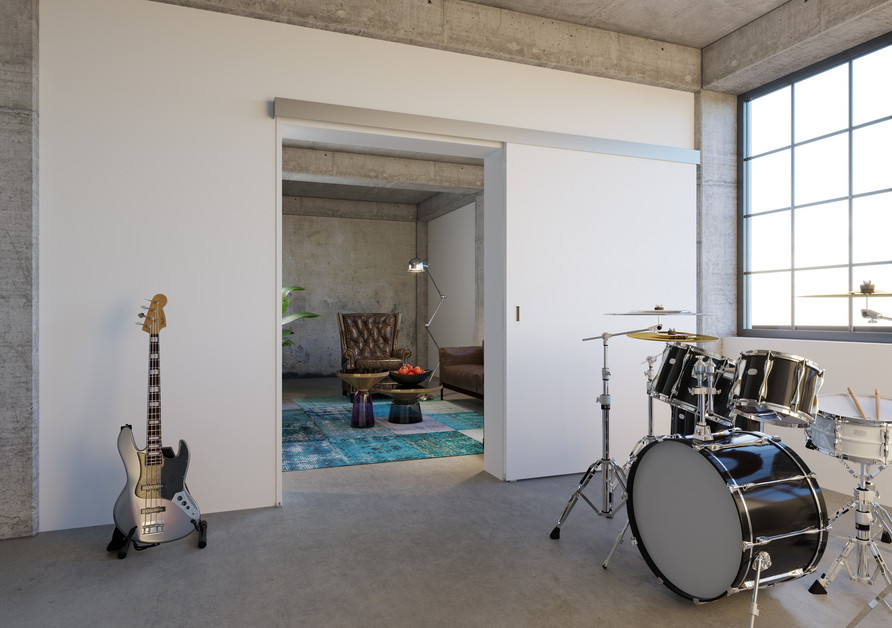acousticguitar: (106, 292, 200, 546)
